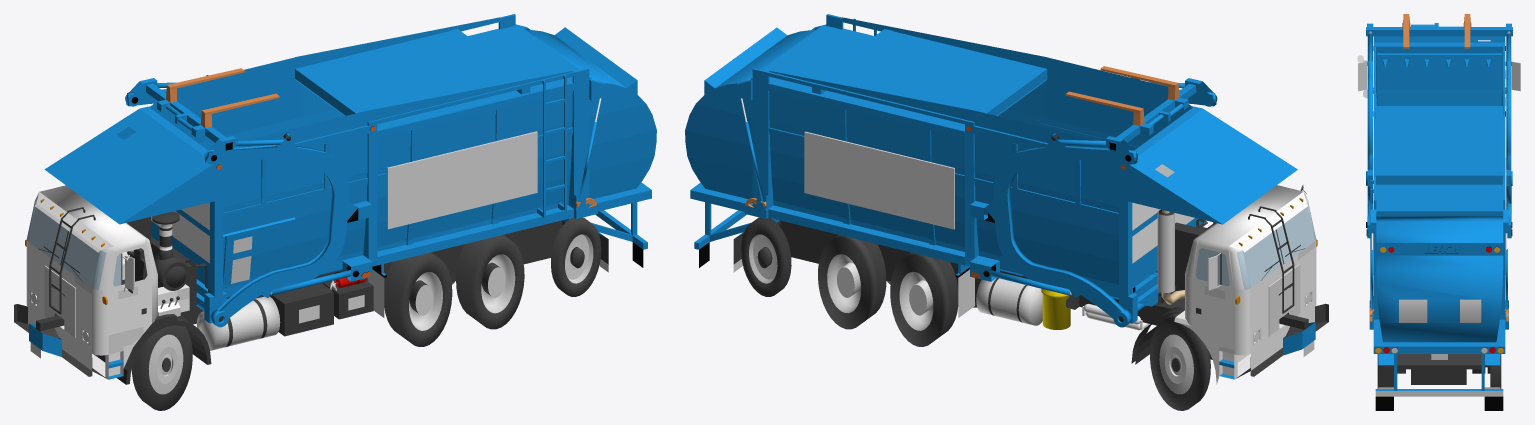
Rendered from kmyn.fbx.
3 views of the same model, side by side, from view 1: azimuth 30°, elevation 25°; view 2: azimuth 150°, elevation 25°; view 3: azimuth 270°, elevation 25° (orthographic). The views are drawn at different scales.
Visible parts, largest first — view 1: Refuse Body, Volvo Chassis, Tailgate, Hopper Cover, Lift Arms, Wheel Axle 3, Wheel Axle 2, Front Wheel Axle, Fork Assembly, Tag Axle, Packer Access Door; view 2: Refuse Body, Volvo Chassis, Tailgate, Hopper Cover, Lift Arms, Wheel Axle 2, Wheel Axle 3, Front Wheel Axle, Fork Assembly, Tag Axle; view 3: Tailgate, Hopper Cover, Refuse Body, Packer, Volvo Chassis, Fork Assembly, Lift Arms, Tailgate Ram, Tag Axle.
Part boxes in pixels (x1,y1,x2,y2): Refuse Body: (44,17,596,323); Volvo Chassis: (14,185,599,384); Tailgate: (498,14,656,272); Hopper Cover: (295,29,530,115); Lift Arms: (126,75,357,327); Wheel Axle 3: (451,235,524,329); Wheel Axle 2: (384,252,452,346); Front Wheel Axle: (132,325,192,410); Fork Assembly: (125,68,279,164); Tag Axle: (551,217,601,296); Packer Access Door: (223,227,262,285); Refuse Body: (745,17,1297,323); Volvo Chassis: (742,185,1328,384); Tailgate: (685,14,843,272); Hopper Cover: (812,29,1047,115); Lift Arms: (984,77,1216,327); Wheel Axle 2: (890,252,977,346); Wheel Axle 3: (818,235,890,329); Front Wheel Axle: (1150,312,1210,410); Fork Assembly: (1065,66,1217,164); Tag Axle: (741,217,791,296); Tailgate: (1369,193,1508,410); Hopper Cover: (1375,106,1503,184); Refuse Body: (1366,36,1512,322); Packer: (1377,53,1502,105); Volvo Chassis: (1357,55,1520,384); Fork Assembly: (1366,14,1512,48); Lift Arms: (1366,36,1512,203); Tailgate Ram: (1371,233,1507,309); Tag Axle: (1377,354,1501,388).
Bounding box in the file's own units: 574 × 256 × 158.
